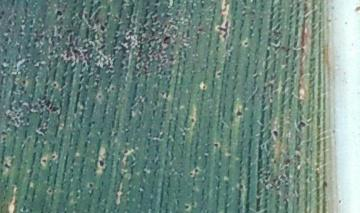tarspot: (270, 129, 279, 139), (162, 36, 172, 44), (298, 121, 307, 129), (97, 159, 105, 167), (336, 198, 344, 206), (20, 79, 28, 86), (183, 202, 190, 210), (215, 70, 223, 77), (96, 94, 103, 102), (189, 117, 196, 125), (235, 110, 243, 117), (322, 180, 329, 188), (55, 10, 64, 16), (213, 142, 220, 149), (200, 83, 207, 90), (342, 20, 350, 26), (192, 167, 199, 173), (189, 201, 196, 207), (242, 40, 248, 47), (41, 158, 47, 164), (50, 154, 56, 160), (87, 182, 93, 188), (188, 171, 194, 177), (51, 82, 57, 88), (47, 188, 53, 193)
